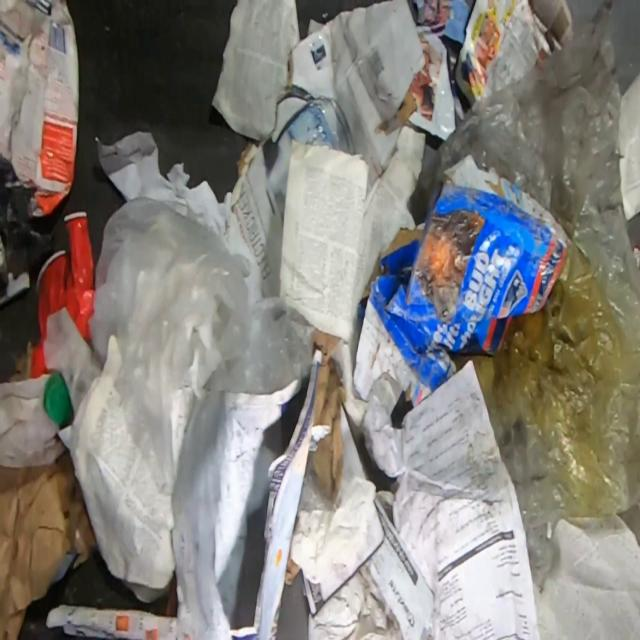cardboard: (231, 0, 426, 299), (352, 153, 573, 409)
rigid_plastic: (31, 210, 96, 378)
soft_plastic: (406, 0, 640, 588), (88, 195, 314, 495), (0, 157, 54, 300), (297, 450, 335, 512)
